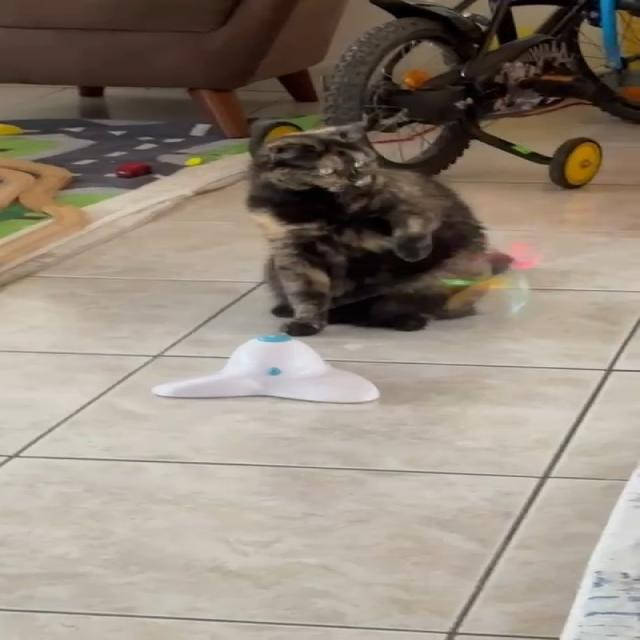authorized: (243, 112, 513, 336)
